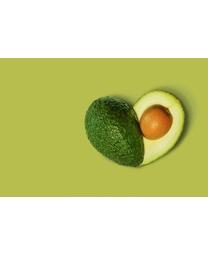avocado: (85, 96, 145, 168), (132, 90, 187, 167)
